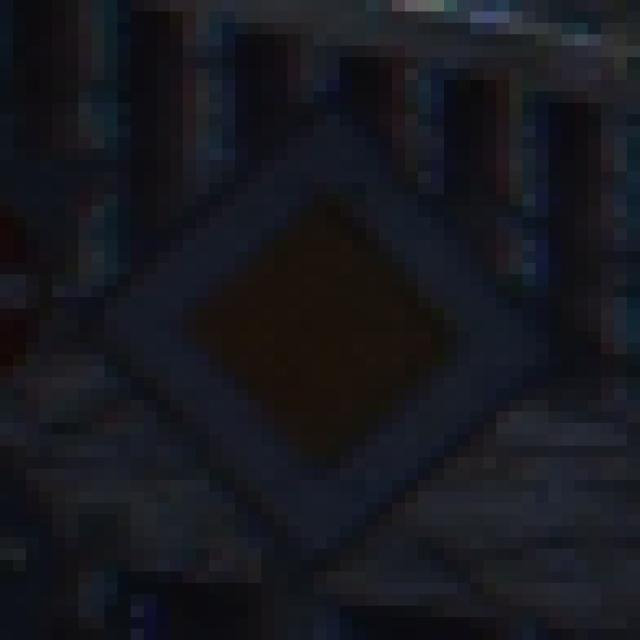Main Road: (66, 58, 576, 584)
